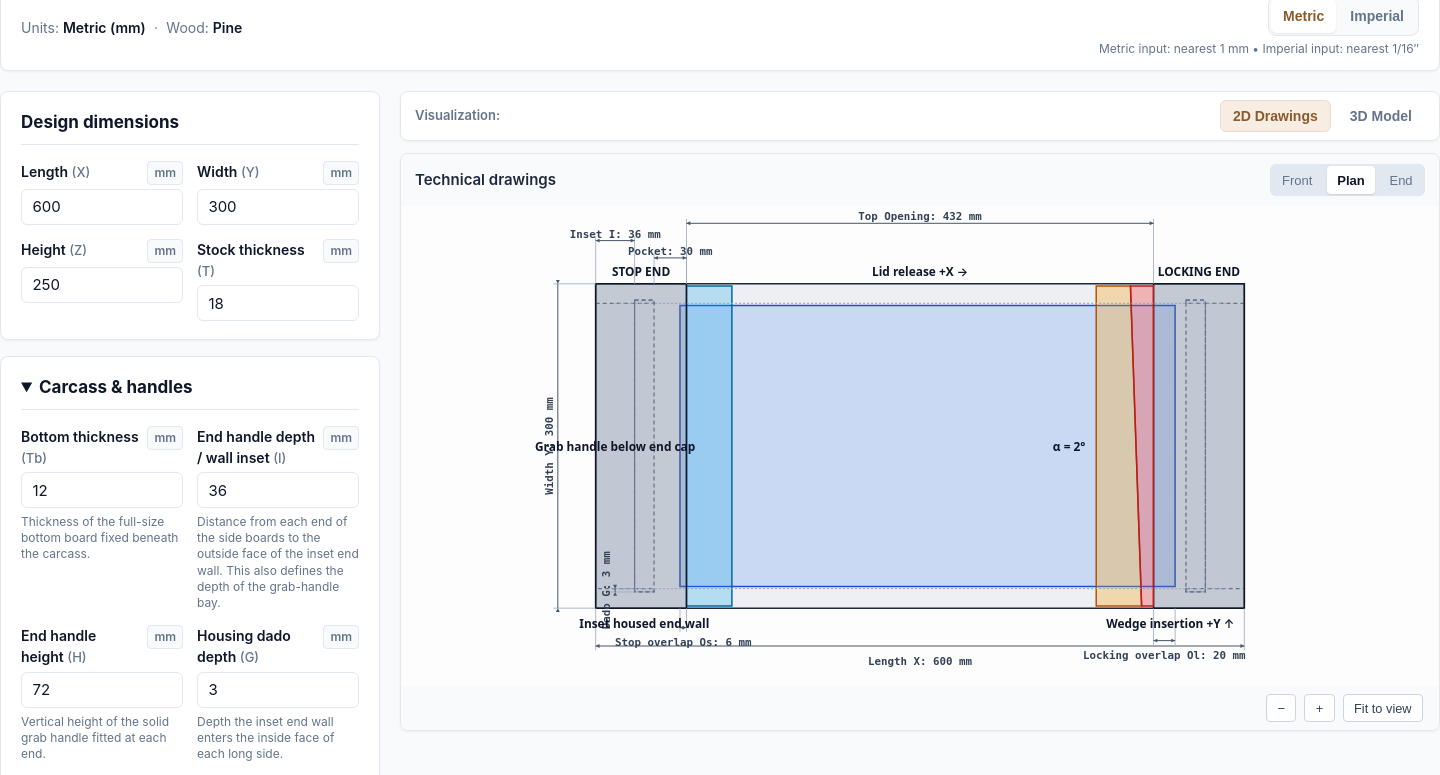
DesignEditor Component › displays authoritative geometry errors when individually valid fields create impossible physical geometry
Clear the field labelled "Length (X)" at [102, 206], box [21, 188, 183, 224]
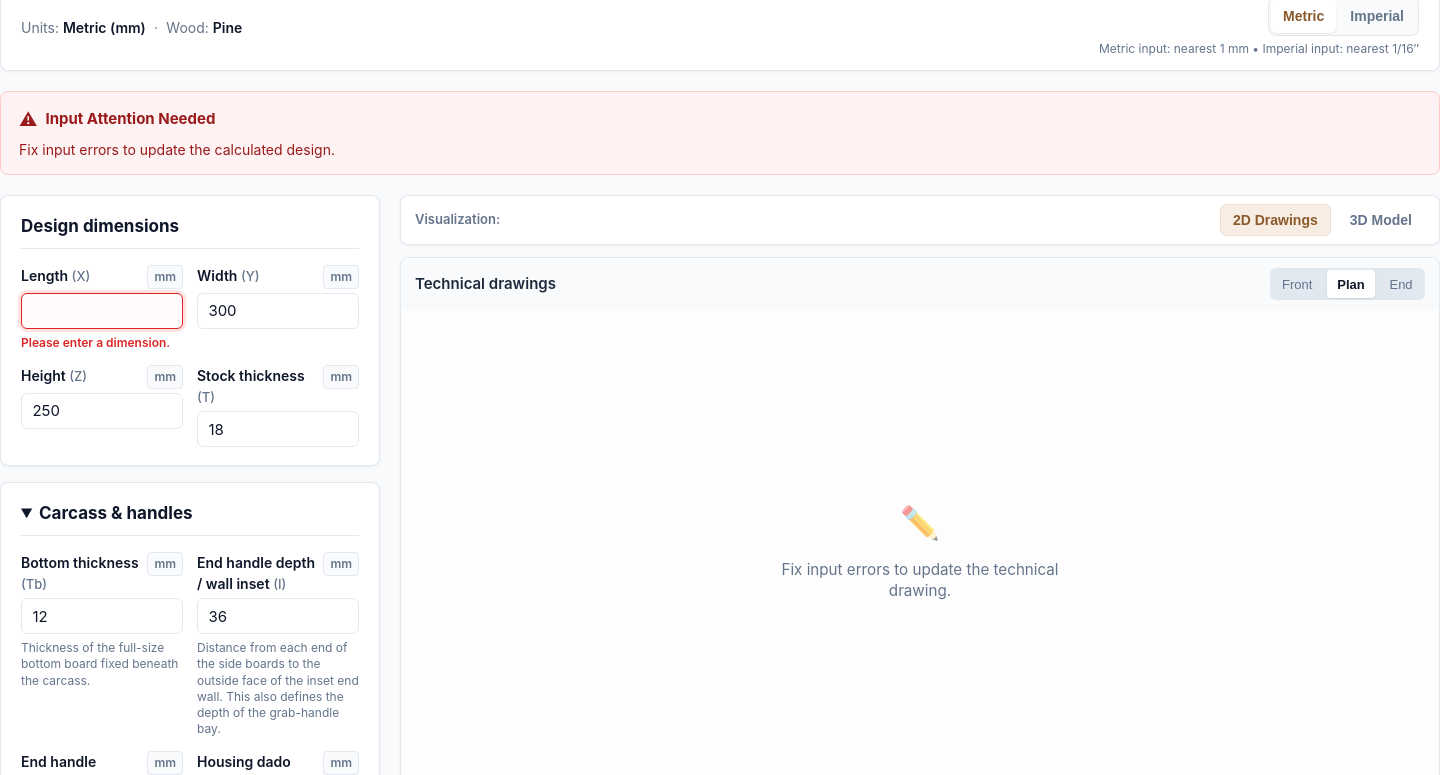
Type "100" into the field labelled "Length (X)" at [102, 310], box [21, 292, 183, 328]
(page scrolled)
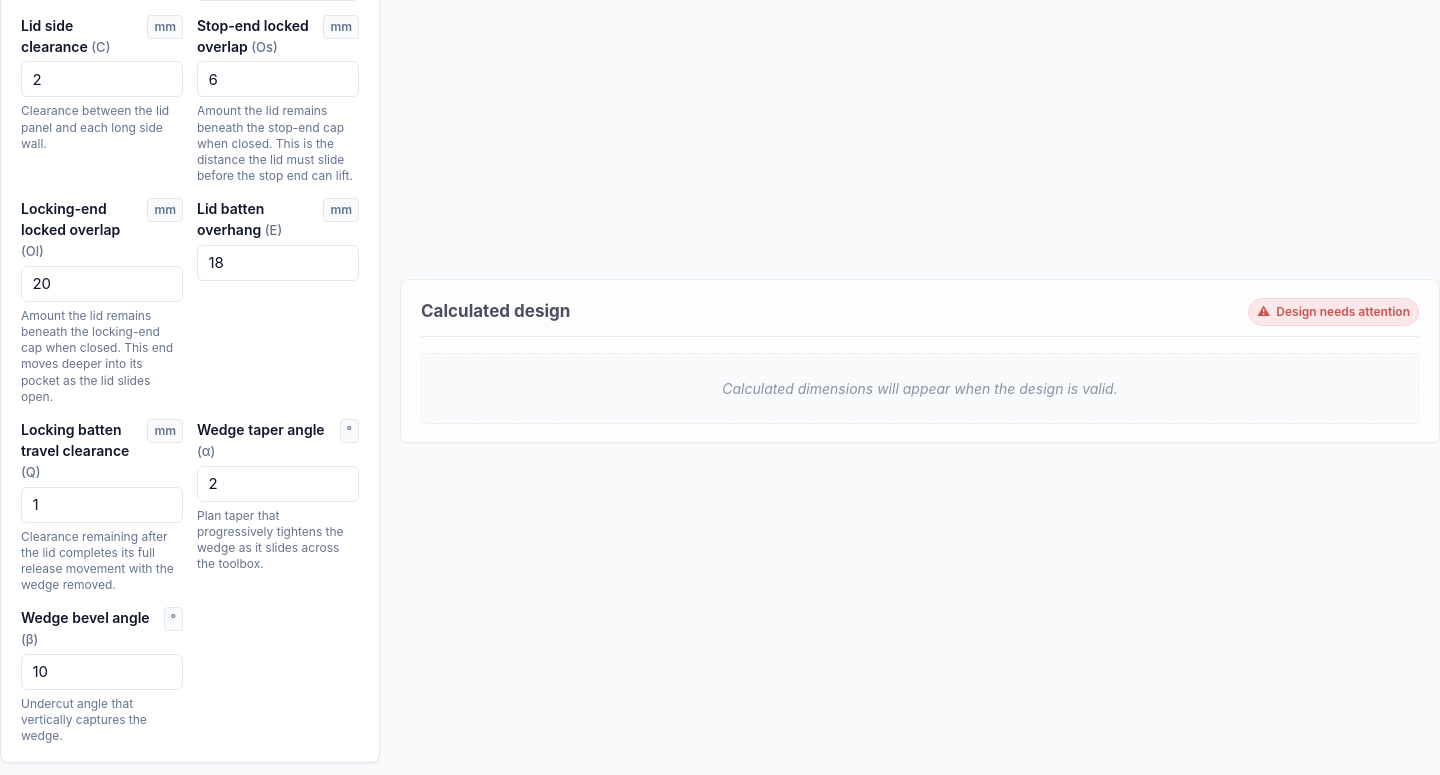
Result: the text "Design needs attention" is shown at [1276, 303, 1410, 321]
Result: the text "Calculated dimensions will appear when the design is valid." is shown at [722, 380, 1118, 397]
